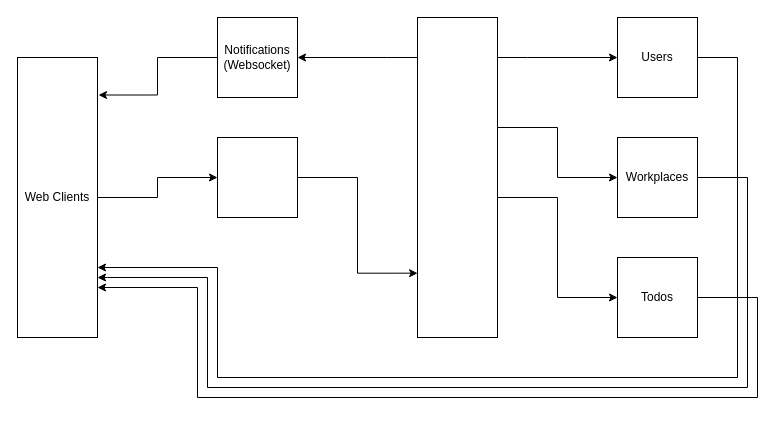
The diagram is 783 pixels wide and 423 high, and some of its shapes have lost their labels. Here are the shapes that lost their labels. From the top down, the box of each, then its label:
(216, 136, 298, 218): Ingress (Create, Update, Delete)
(416, 16, 498, 338): PubSub
